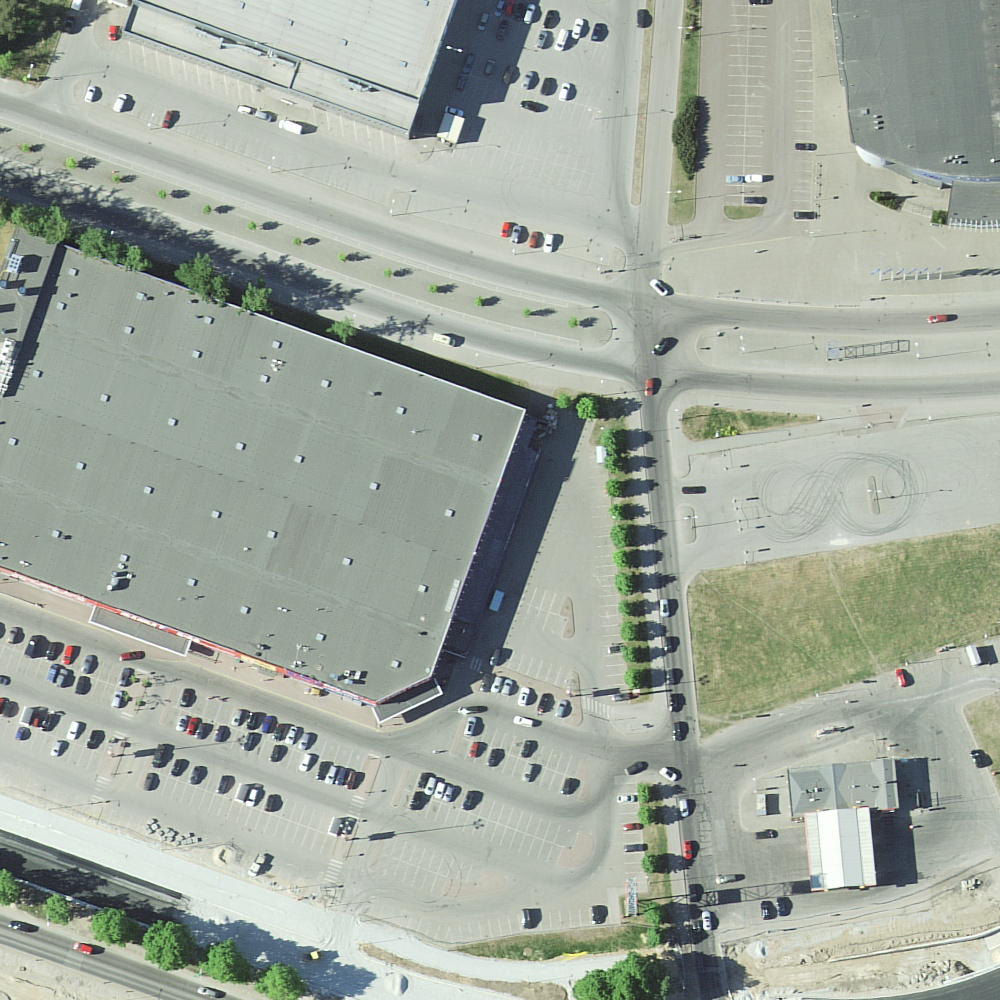building: (1, 228, 526, 725), (126, 2, 458, 133), (835, 1, 1000, 228), (787, 758, 900, 890)
